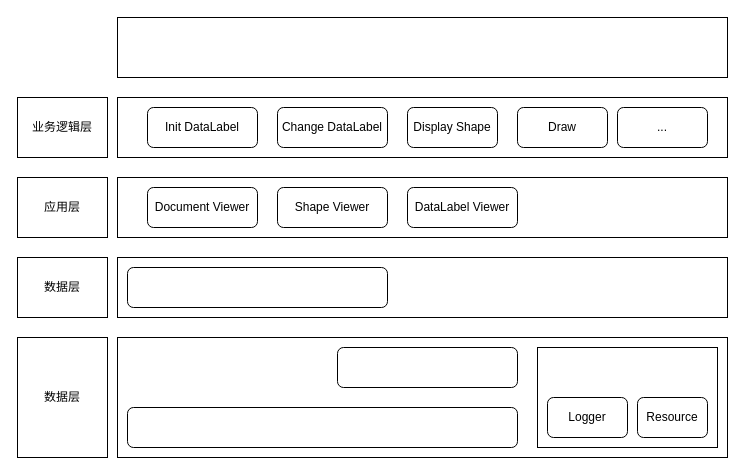
This 745x475 diagram has some shape labels left out. The box of each missing label's shape, as (x1, y1, x2, y2) in pixels:
Application: (536, 346, 718, 448)
Document: (126, 266, 388, 308)
MainControl: (116, 16, 728, 78)
OCC Foundation Class, Modeing Data, modeling Algorithm: (126, 406, 518, 448)
OCC Visualization: (336, 346, 518, 388)
